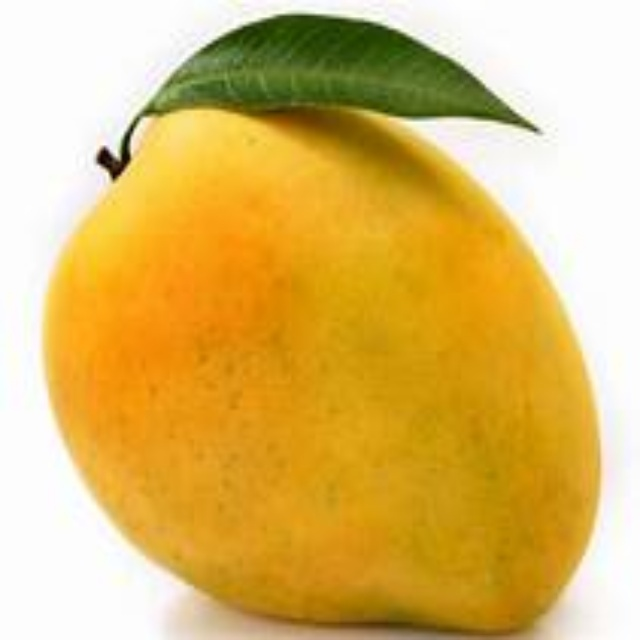mango: (39, 103, 600, 630)
